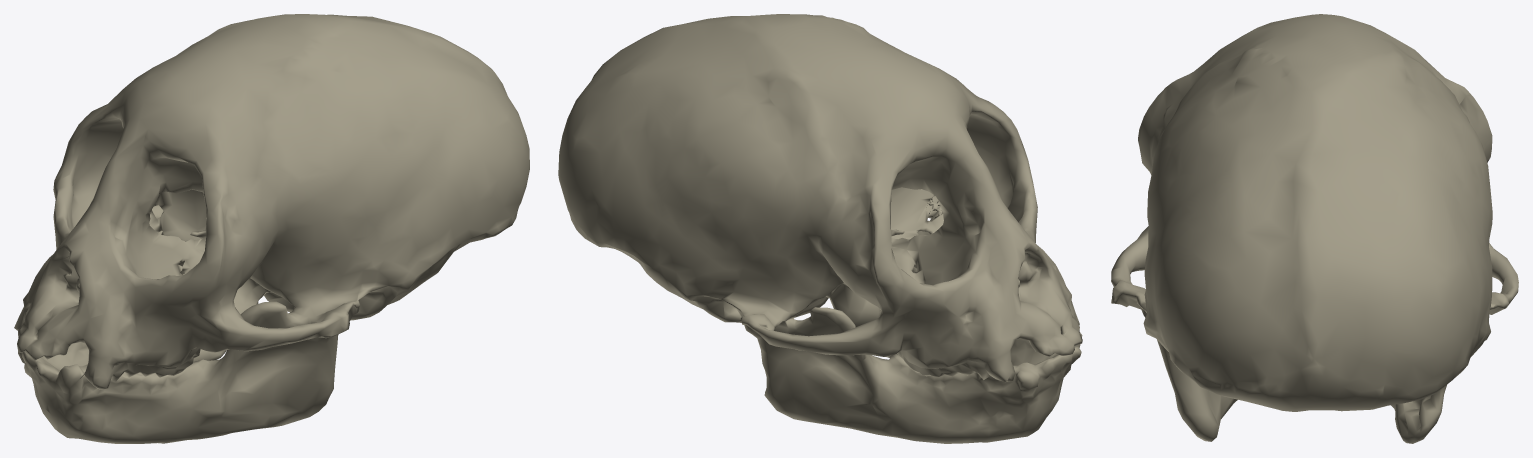
The model's file is squirrelmonkeyskull.glb.
3 renders of one model, left to right at view 1: azimuth 30°, elevation 25°; view 2: azimuth 150°, elevation 25°; view 3: azimuth 270°, elevation 25°, orthographic. The views are drawn at different scales.
Size of the model in its own units: 0.066 by 0.046 by 0.0406.
